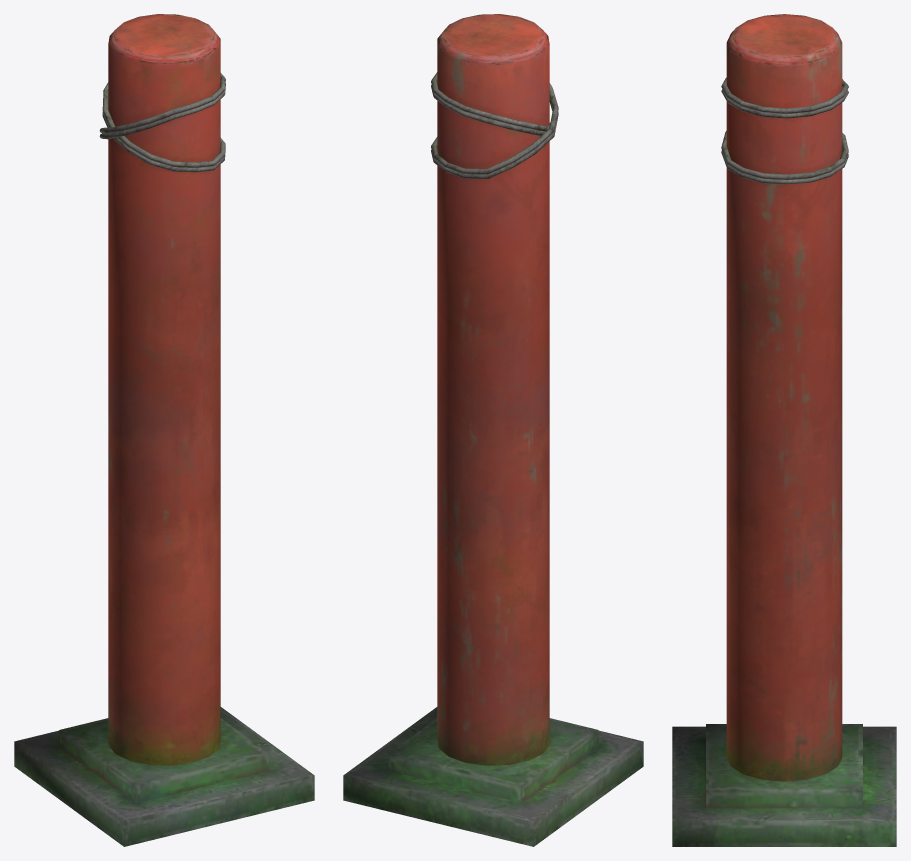
The model's file is Pillar.fbx.
3 views of the same model, side by side, from view 1: azimuth 30°, elevation 25°; view 2: azimuth 150°, elevation 25°; view 3: azimuth 270°, elevation 25° (orthographic). The views are drawn at different scales.
Visible parts, largest first — view 1: SM_a_001_Pillar_01a; view 2: SM_a_001_Pillar_01a; view 3: SM_a_001_Pillar_01a.
Part boxes in pixels (box(x1,y1,x2,y2)): SM_a_001_Pillar_01a: box(14, 14, 314, 846); SM_a_001_Pillar_01a: box(343, 14, 643, 846); SM_a_001_Pillar_01a: box(672, 14, 896, 846).
Bounding box in the file's own units: 120 × 450 × 120.
